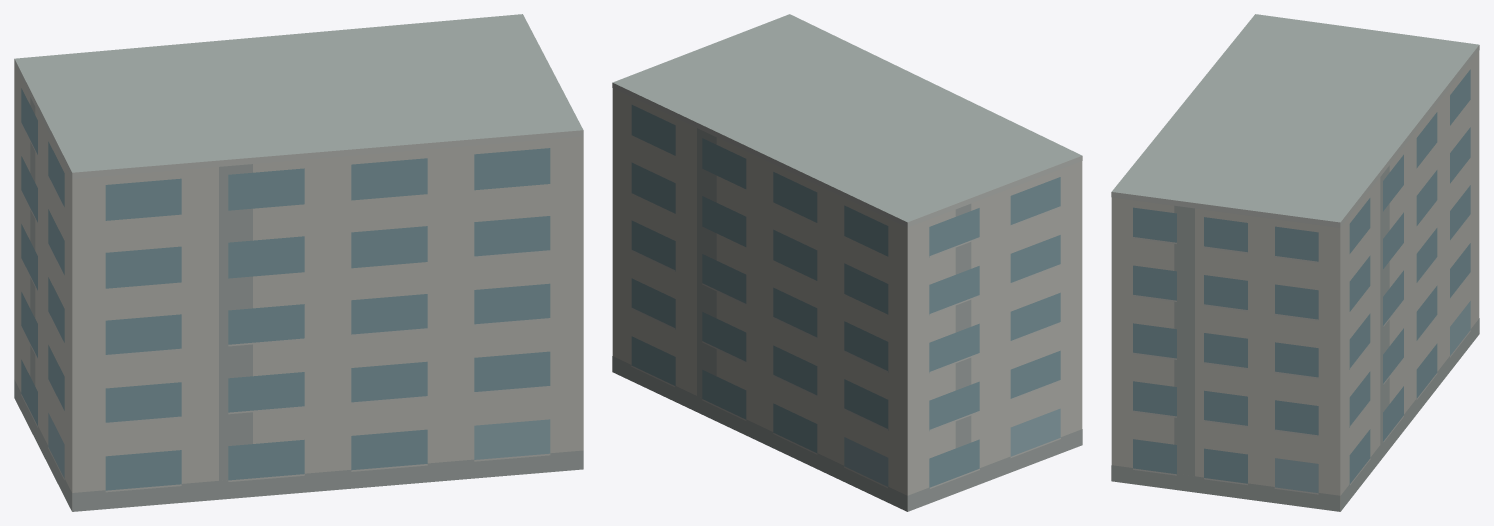
File: survey-upis-32783972.glb
The picture shows the model from 3 angles, left to right: view 1: azimuth 30°, elevation 25°; view 2: azimuth 150°, elevation 25°; view 3: azimuth 270°, elevation 25°; orthographic projection. The views are drawn at different scales.
Parts seen in each view (by area): view 1: survey-upis-32783972.tmp; view 2: survey-upis-32783972.tmp; view 3: survey-upis-32783972.tmp.
Part boxes in pixels (x1=…): survey-upis-32783972.tmp: x1=14, y1=14, x2=583, y2=511; survey-upis-32783972.tmp: x1=612, y1=14, x2=1082, y2=511; survey-upis-32783972.tmp: x1=1111, y1=14, x2=1479, y2=511.
Bounding box in the file's own units: 20.09 × 13 × 14.99.
